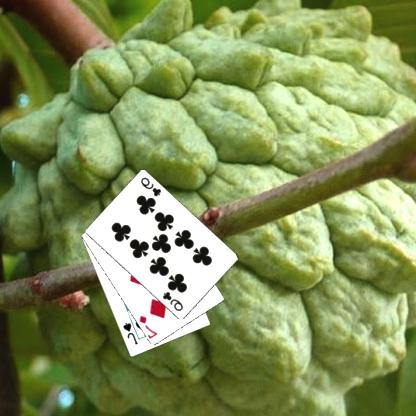7D: (139, 313, 160, 340)
9C: (162, 289, 186, 313), (140, 175, 164, 198)
JS: (122, 320, 141, 346)
